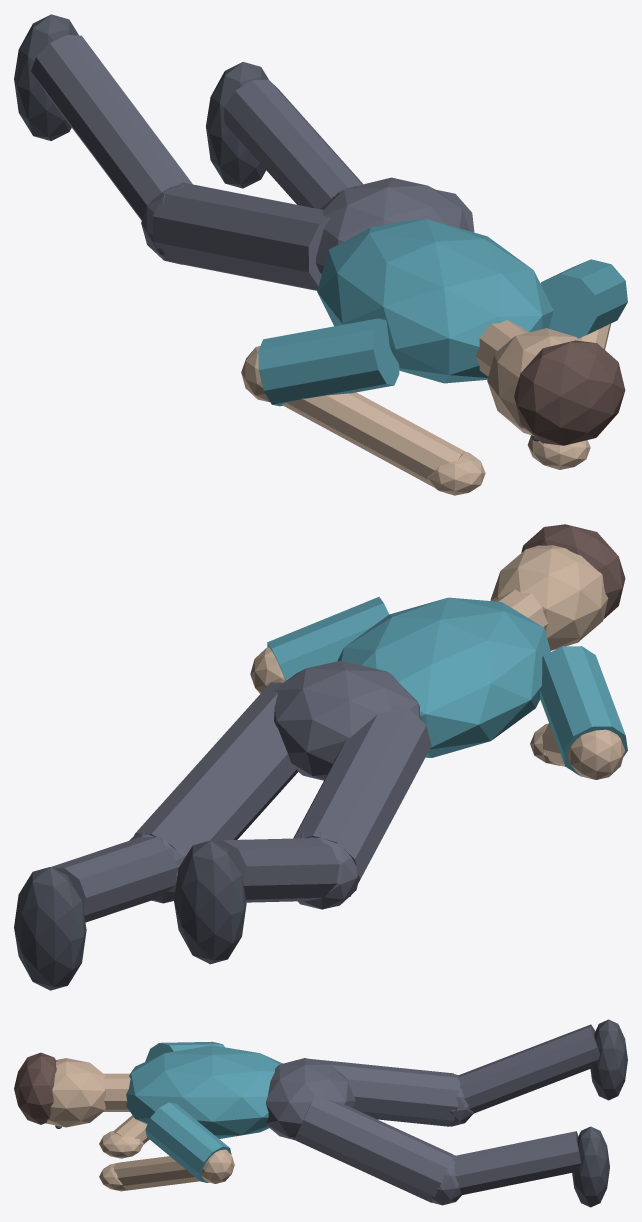
The picture shows the model from 3 angles, top to bottom: view 1: azimuth 30°, elevation 25°; view 2: azimuth 150°, elevation 25°; view 3: azimuth 270°, elevation 25°; orthographic projection. The views are drawn at different scales.
Visible parts, largest first — view 1: world; view 2: world; view 3: world.
Part boxes in pixels (x1,y1,x2,y2): world: (14,14,627,495); world: (14,524,627,990); world: (14,1019,627,1207).
Bounding box in the file's own units: 0.93 × 0.4905 × 2.06.
